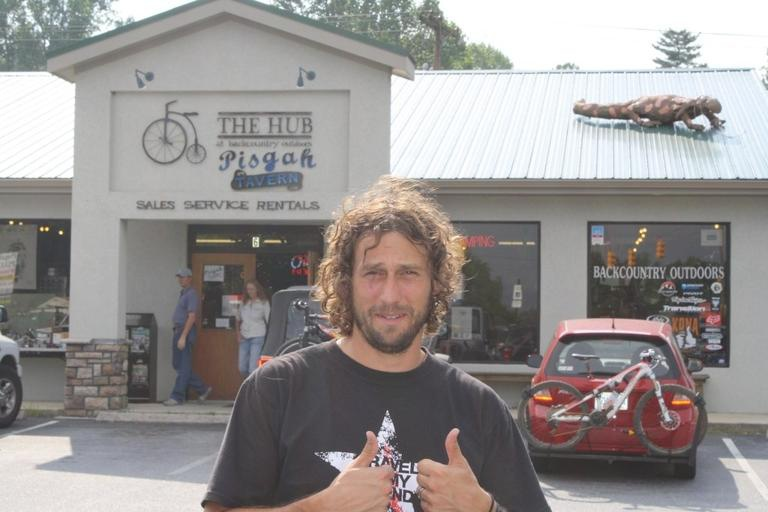non-vehicle: (516, 347, 707, 455), (272, 298, 336, 357)
